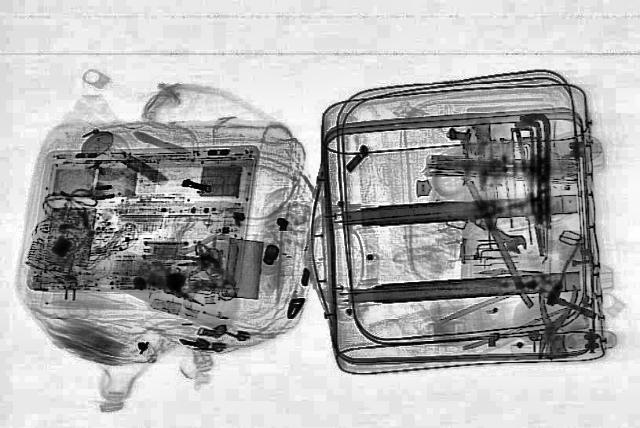Wrench: (465, 212, 535, 256)
